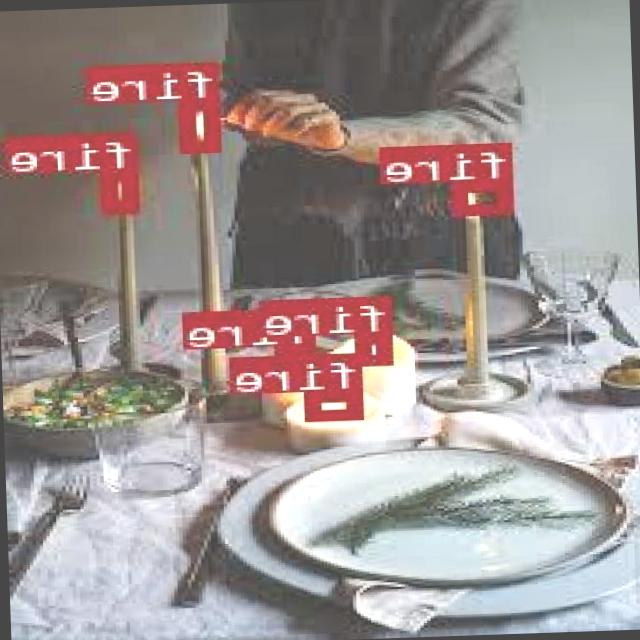fire: (454, 177, 516, 212), (181, 98, 223, 149), (310, 388, 366, 418), (106, 168, 142, 212), (358, 331, 394, 363), (280, 344, 318, 374)
